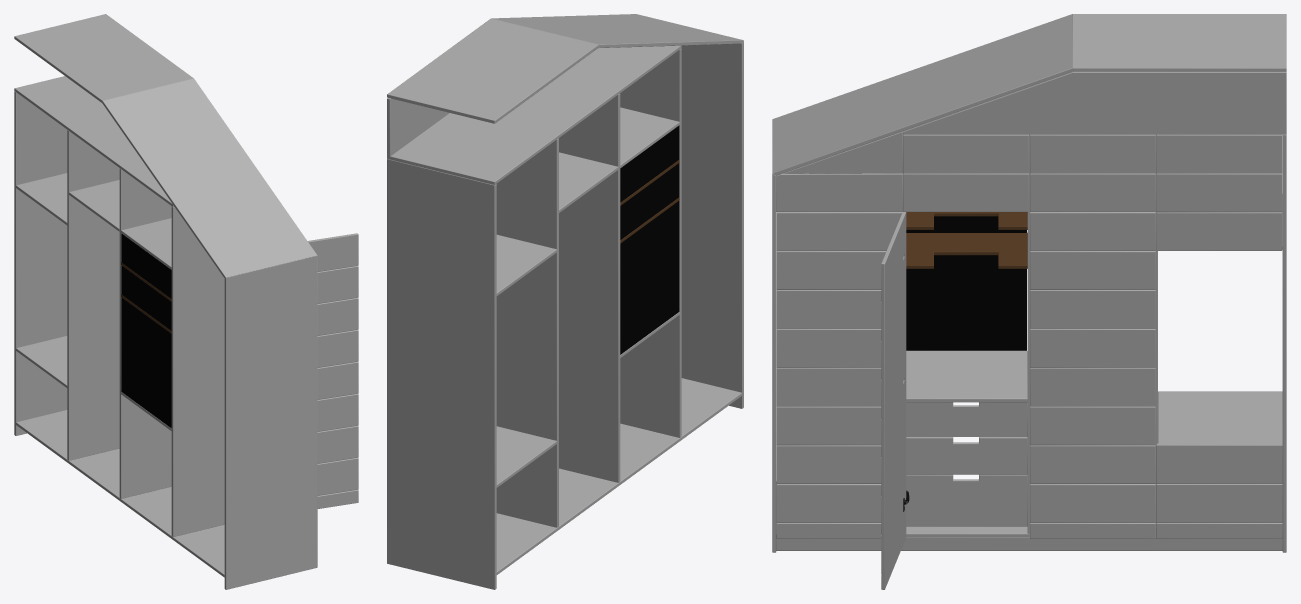
File: Cabinet01.FBX
The picture shows the model from 3 angles, left to right: view 1: azimuth 30°, elevation 25°; view 2: azimuth 150°, elevation 25°; view 3: azimuth 270°, elevation 25°; orthographic projection. The views are drawn at different scales.
Parts seen in each view (by area): view 1: Component#55_001, Component#54_001, Component#72_003, Component#72_001, Component#56_001, Component#79_003, Component#53_001, Rectangle003, Component#72_002, Component#71_001, Component#57_001, Component#76_001 (+3 smaller); view 2: Component#56_001, Component#55_001, Component#72_002, Component#72_001, Component#57_001, Component#53_001, Rectangle003, Component#72_003, Component#71_001, Component#54_001, Component#76_001, Component#76_002 (+3 smaller); view 3: Component#79_001, Component#79_002, Component#58_001, Component#54_001, Component#75_001, Component#53_001, Rectangle003, Component#74_001, Component#74_002, Component#79_003, Component#78_001, Component#81_001 (+14 smaller).
Part boxes in pixels (x1,y1,x2,y2): Component#55_001: (224, 255, 317, 589); Component#54_001: (102, 78, 317, 278); Component#72_003: (171, 206, 224, 536); Component#72_001: (67, 130, 119, 460); Component#56_001: (14, 91, 67, 435); Component#79_003: (307, 233, 358, 508); Component#53_001: (14, 14, 193, 102); Rectangle003: (121, 233, 171, 428); Component#72_002: (119, 168, 171, 498); Component#71_001: (16, 410, 224, 577); Component#57_001: (14, 76, 174, 206); Component#76_001: (16, 173, 67, 225); Component#56_001: (387, 159, 496, 589); Component#55_001: (681, 41, 743, 408); Component#72_002: (559, 94, 620, 482); Component#72_001: (496, 138, 558, 527); Component#57_001: (390, 45, 681, 184); Component#53_001: (387, 18, 598, 123); Rectangle003: (620, 125, 679, 354); Component#72_003: (620, 48, 681, 437); Component#71_001: (496, 378, 741, 574); Component#54_001: (491, 14, 743, 48); Component#76_001: (496, 234, 556, 296); Component#76_002: (496, 426, 556, 487); Component#79_001: (1030, 212, 1155, 538); Component#79_002: (776, 212, 902, 538); Component#58_001: (903, 71, 1286, 134); Component#54_001: (772, 14, 1072, 175); Component#75_001: (1156, 134, 1282, 250); Component#53_001: (1072, 14, 1286, 71); Rectangle003: (906, 216, 1026, 350); Component#74_001: (1030, 134, 1155, 211); Component#74_002: (903, 134, 1028, 211); Component#79_003: (881, 212, 906, 589); Component#78_001: (776, 131, 902, 211); Component#81_001: (1156, 484, 1282, 538).
Bounding box in the file's own units: 1164 × 2495 × 2400.
